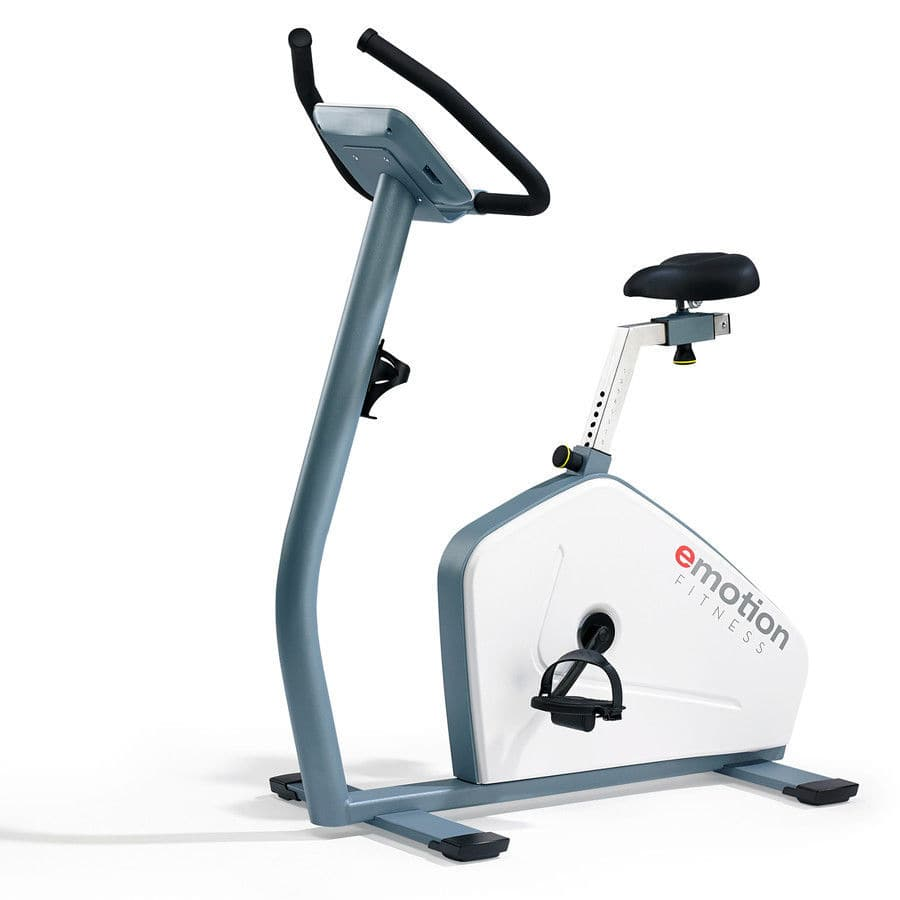gym_bike: (174, 14, 874, 879)
